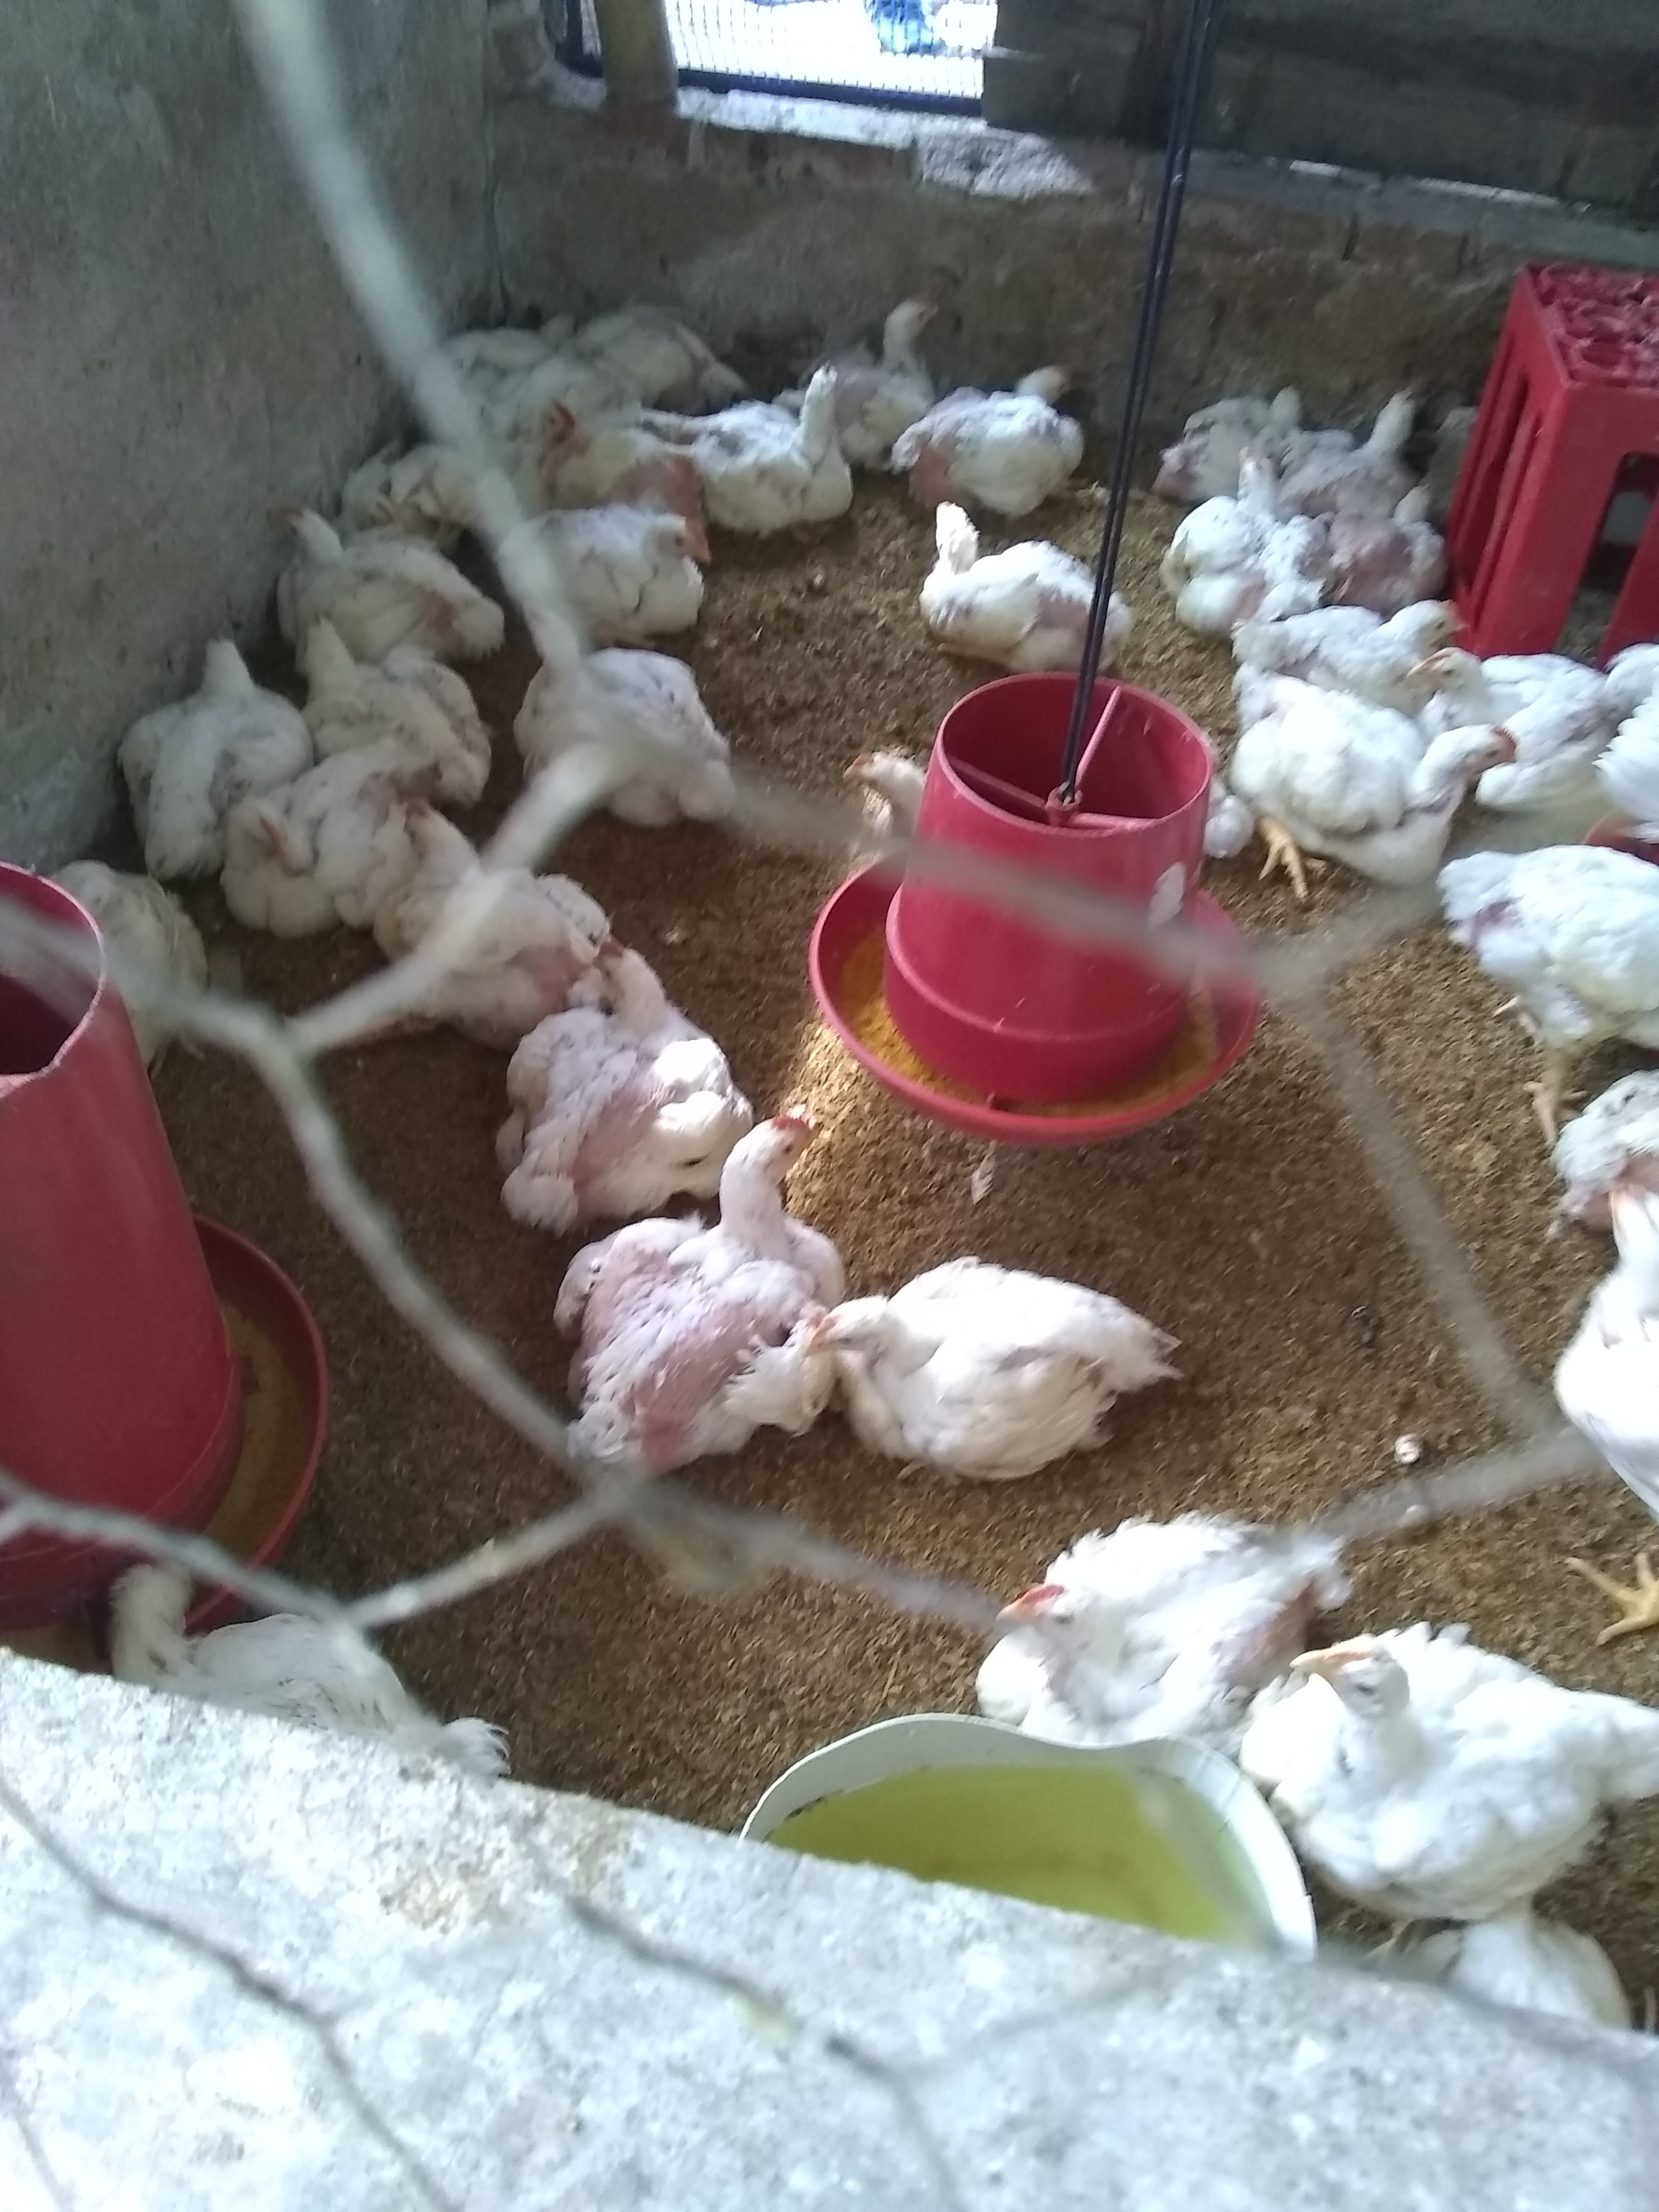Pollos: (1300, 1632, 1598, 1850), (814, 1266, 1138, 1446), (979, 1526, 1298, 1705), (652, 1099, 823, 1374), (542, 935, 720, 1150), (911, 493, 1129, 662), (1150, 441, 1326, 639), (387, 792, 547, 986), (284, 617, 488, 759), (1297, 718, 1537, 834), (896, 350, 1084, 495), (129, 629, 253, 834), (216, 770, 380, 920), (704, 373, 859, 517), (538, 503, 714, 629), (274, 505, 472, 610), (422, 395, 584, 503), (1335, 381, 1445, 519), (1405, 643, 1528, 716), (1382, 587, 1471, 648)
